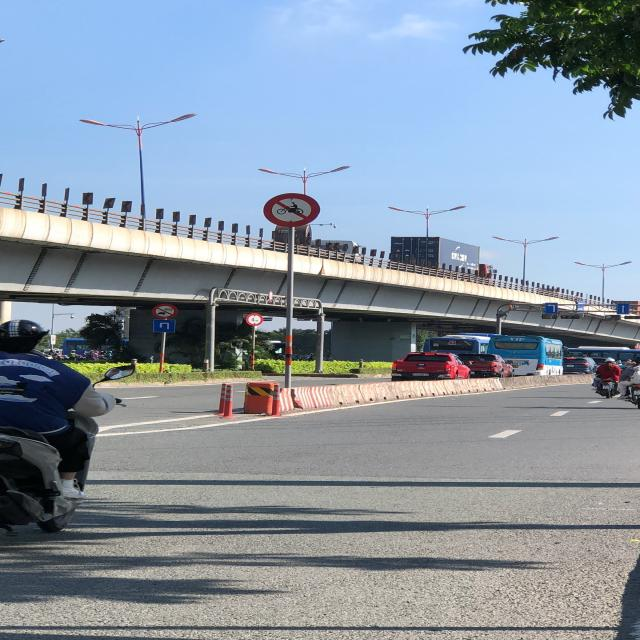Bien bao cam xe may: (259, 190, 322, 229)
